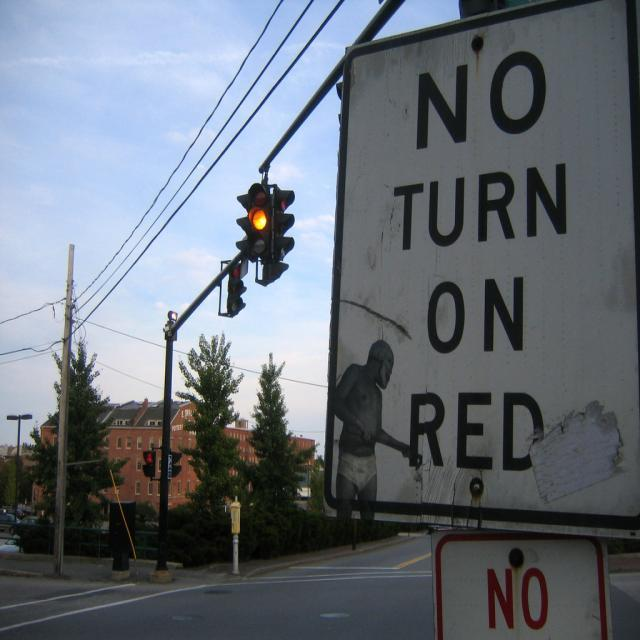traffic light: (249, 182, 272, 253), (274, 185, 293, 257), (230, 259, 242, 313)
